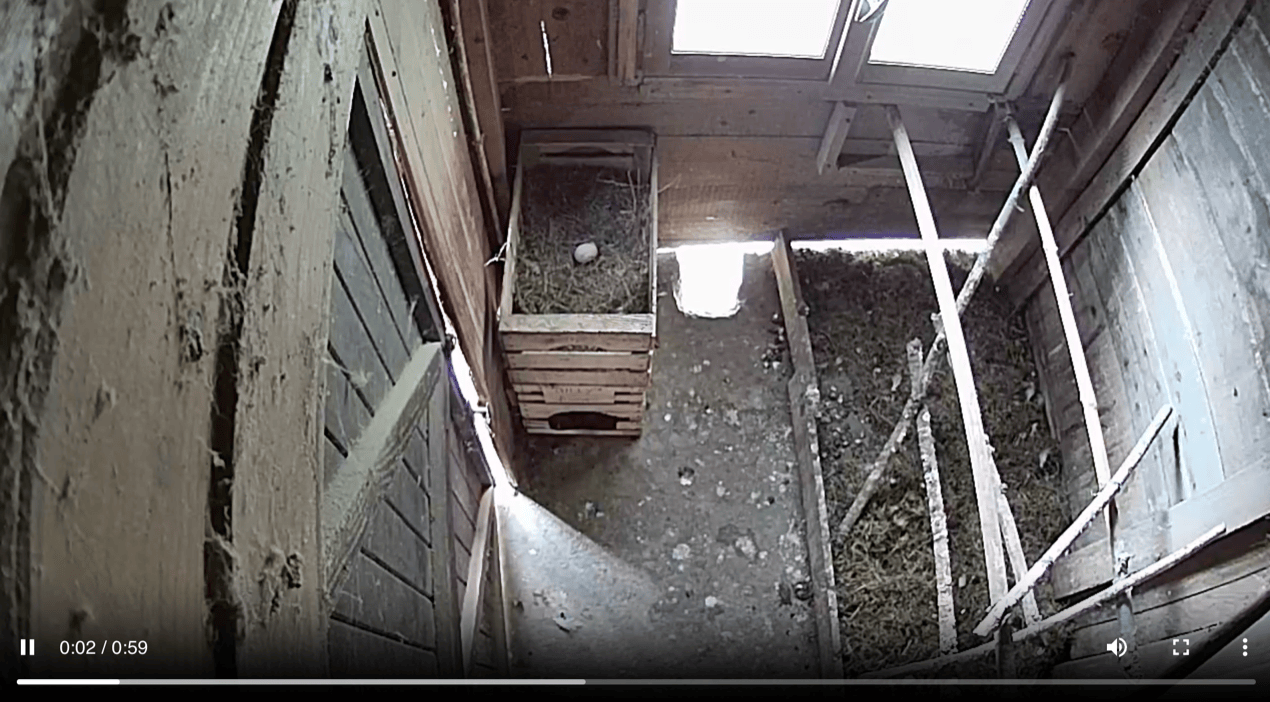egg: (567, 237, 604, 270)
